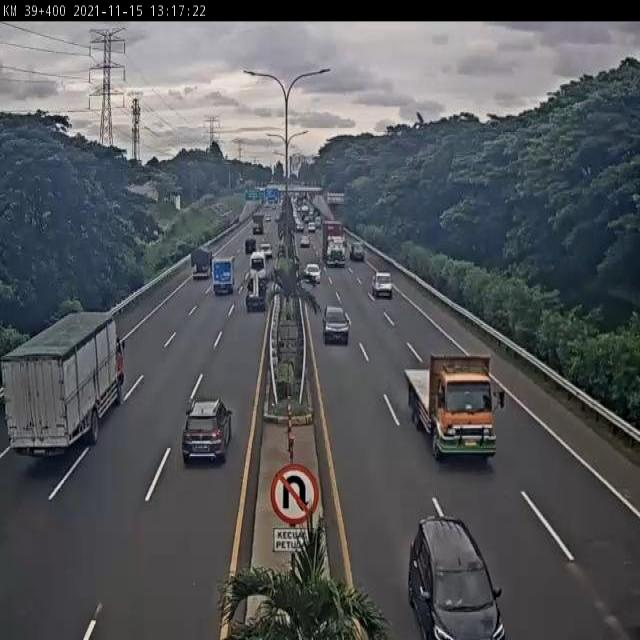Car: (408, 517, 503, 640), (182, 398, 233, 466), (322, 306, 348, 346), (304, 264, 322, 285)
Truck: (0, 309, 127, 457), (404, 354, 500, 460), (322, 221, 346, 266), (213, 256, 235, 294), (246, 274, 269, 310), (191, 248, 213, 280), (350, 240, 366, 260)
Van: (370, 272, 393, 300)
